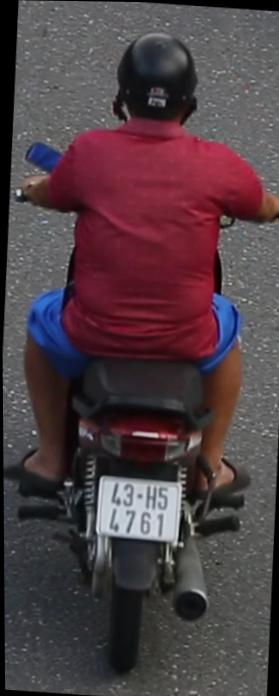LP: (90, 471, 183, 548)
helmet: (100, 25, 212, 143)
